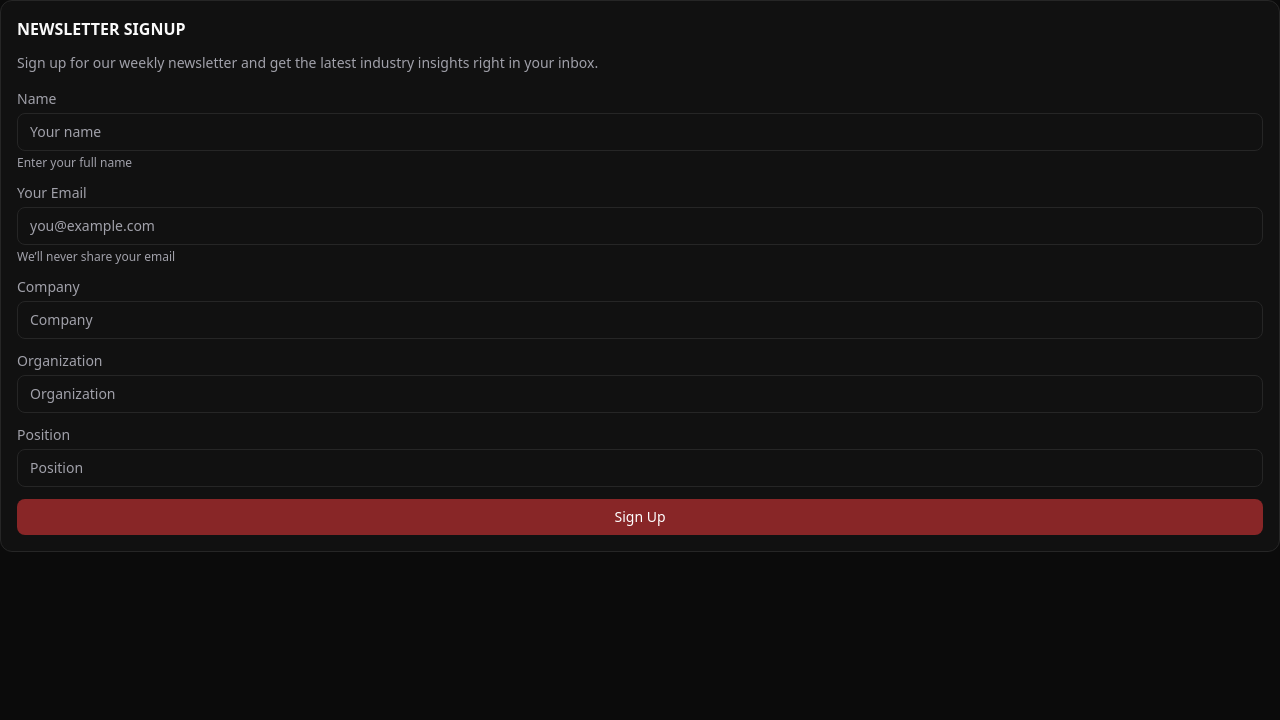
it: NewsletterWidget › validates required fields and submits successfully
This screenshot has width=1280, height=720.
# Try submit empty
Click the button "Sign Up" at (640, 517), box 17,499 -> 1263,535
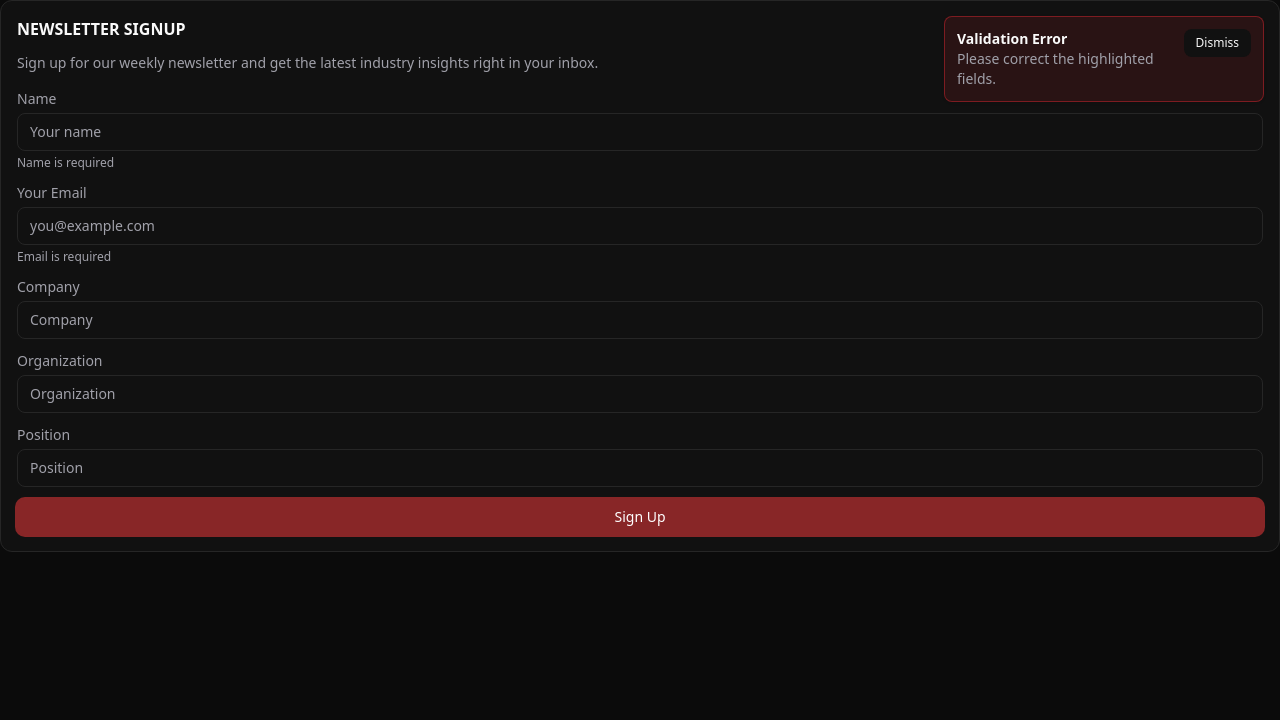
Expected: the text "Validation Error" is shown, 957,29 -> 1067,48
# Fill minimal fields
Type "Ada Lovelace" into the field labelled "Name" at (640, 132), box 17,113 -> 1263,151
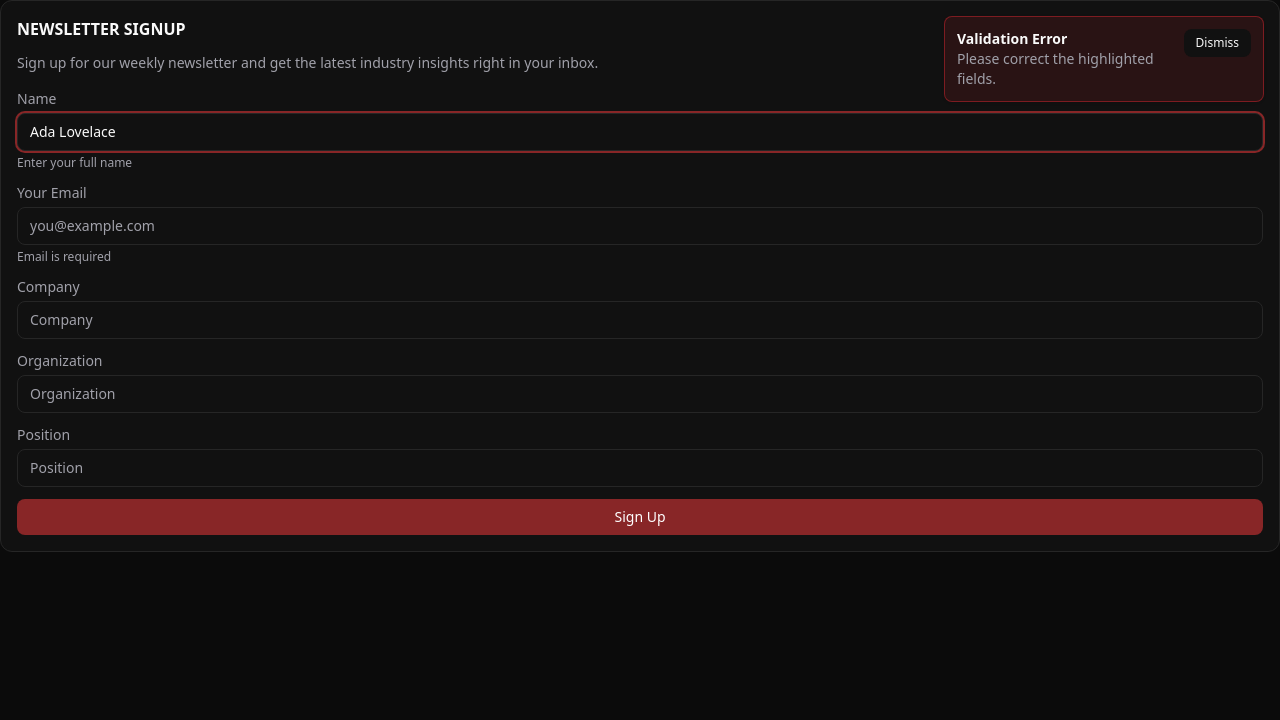
Type "ada@example.com" into the field labelled "Your Email" at (640, 226), box 17,207 -> 1263,245
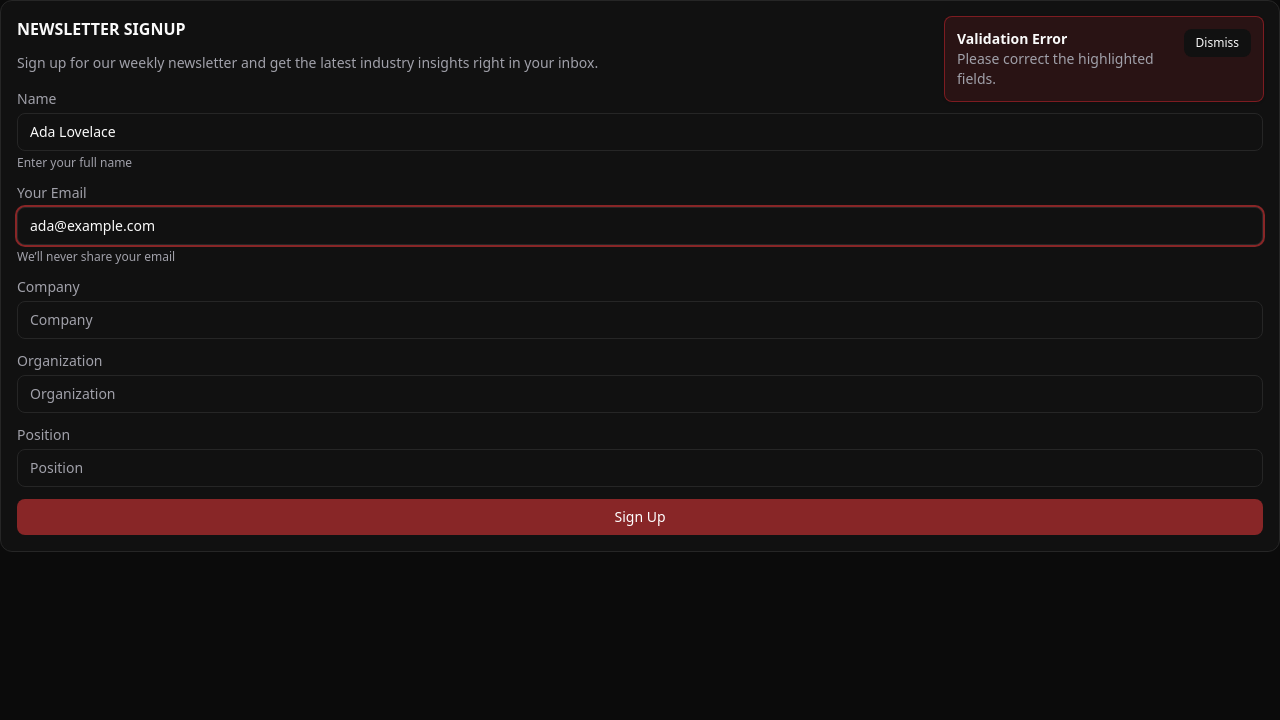
Click the button "Sign Up" at (640, 517), box 17,499 -> 1263,535
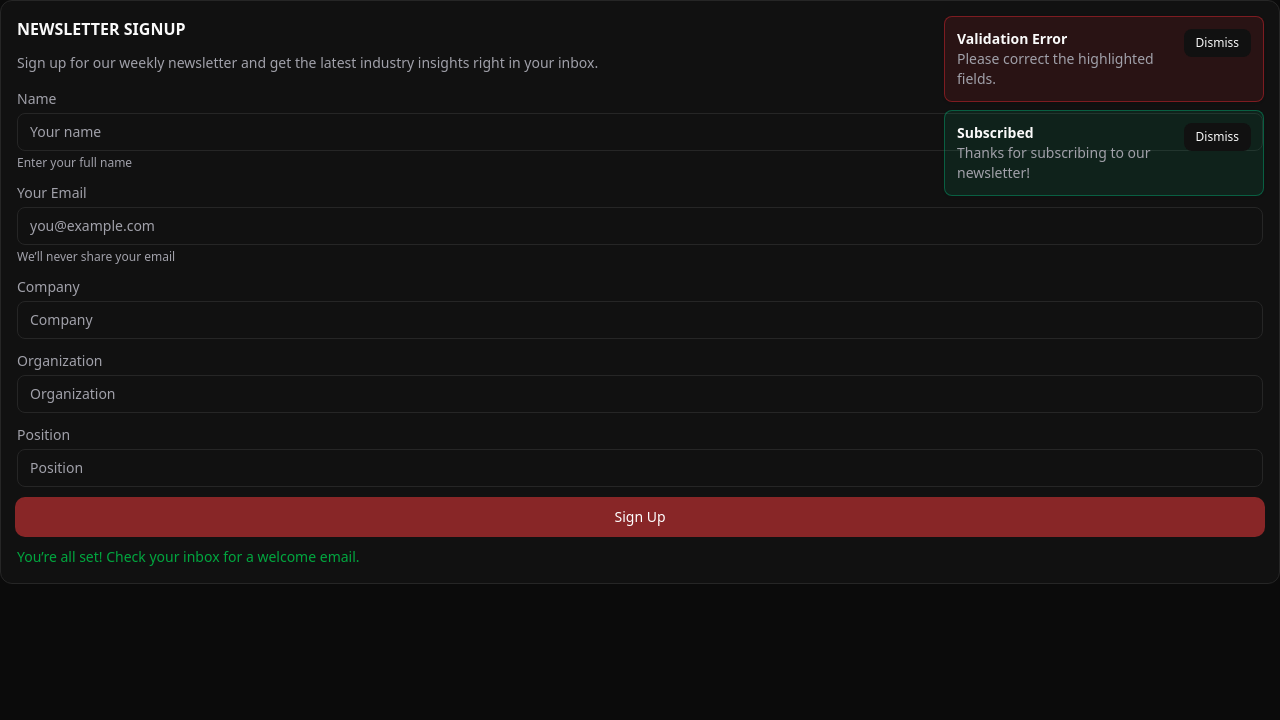
Expected: the text "Thanks for subscribing to our newsletter!" is shown, 957,143 -> 1172,183
